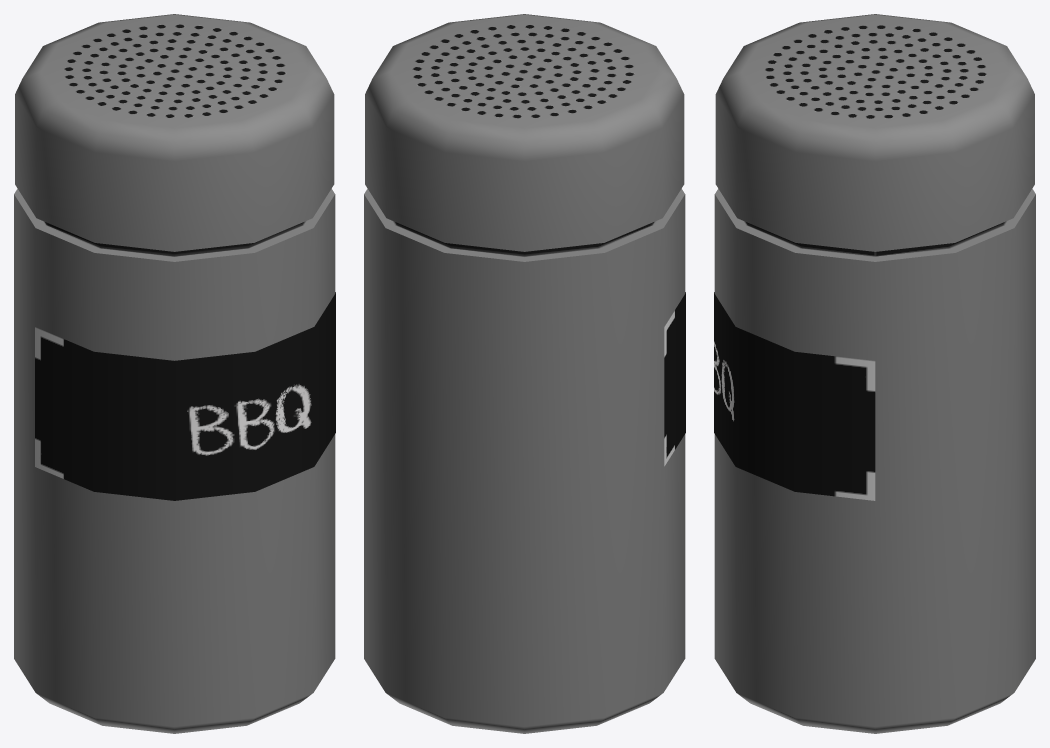
File: Shakers.fbx
3 views of the same model, side by side, from view 1: azimuth 30°, elevation 25°; view 2: azimuth 150°, elevation 25°; view 3: azimuth 270°, elevation 25° (orthographic).
Parts seen in each view (by area): view 1: Label12_BBQ; view 2: Label12_BBQ; view 3: Label12_BBQ.
Part boxes in pixels (left/top/right/bottom): Label12_BBQ: left=14, top=14, right=335, bottom=733; Label12_BBQ: left=364, top=14, right=685, bottom=733; Label12_BBQ: left=714, top=14, right=1035, bottom=733.
Size of the model in its own units: 6.01 by 12.35 by 5.99.
